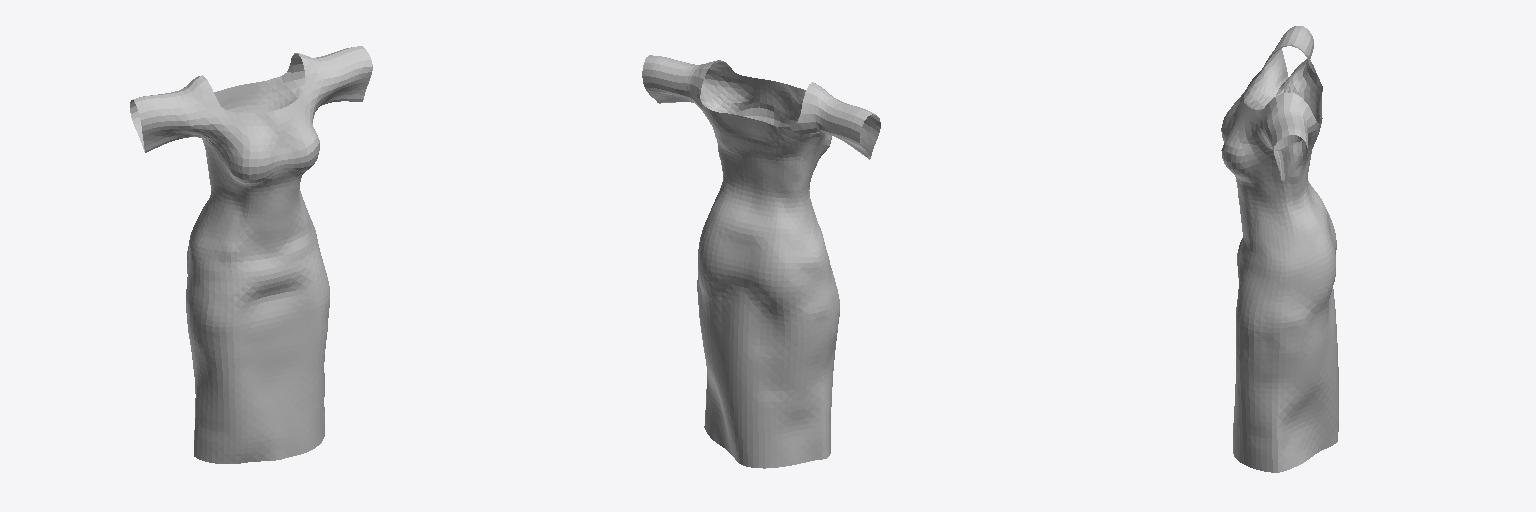
File: amandaModelDress.obj
3 renders of one model, left to right at view 1: azimuth 30°, elevation 25°; view 2: azimuth 150°, elevation 25°; view 3: azimuth 270°, elevation 25°, orthographic.
Parts seen in each view (by area): view 1: Plane; view 2: Plane; view 3: Plane.
Boxes of the visible parts, <box> form: Plane: <box>130,46,372,463</box>; Plane: <box>642,55,880,468</box>; Plane: <box>1221,26,1338,472</box>.
Size of the model in its own units: 0.8354 by 1.31 by 0.3729.